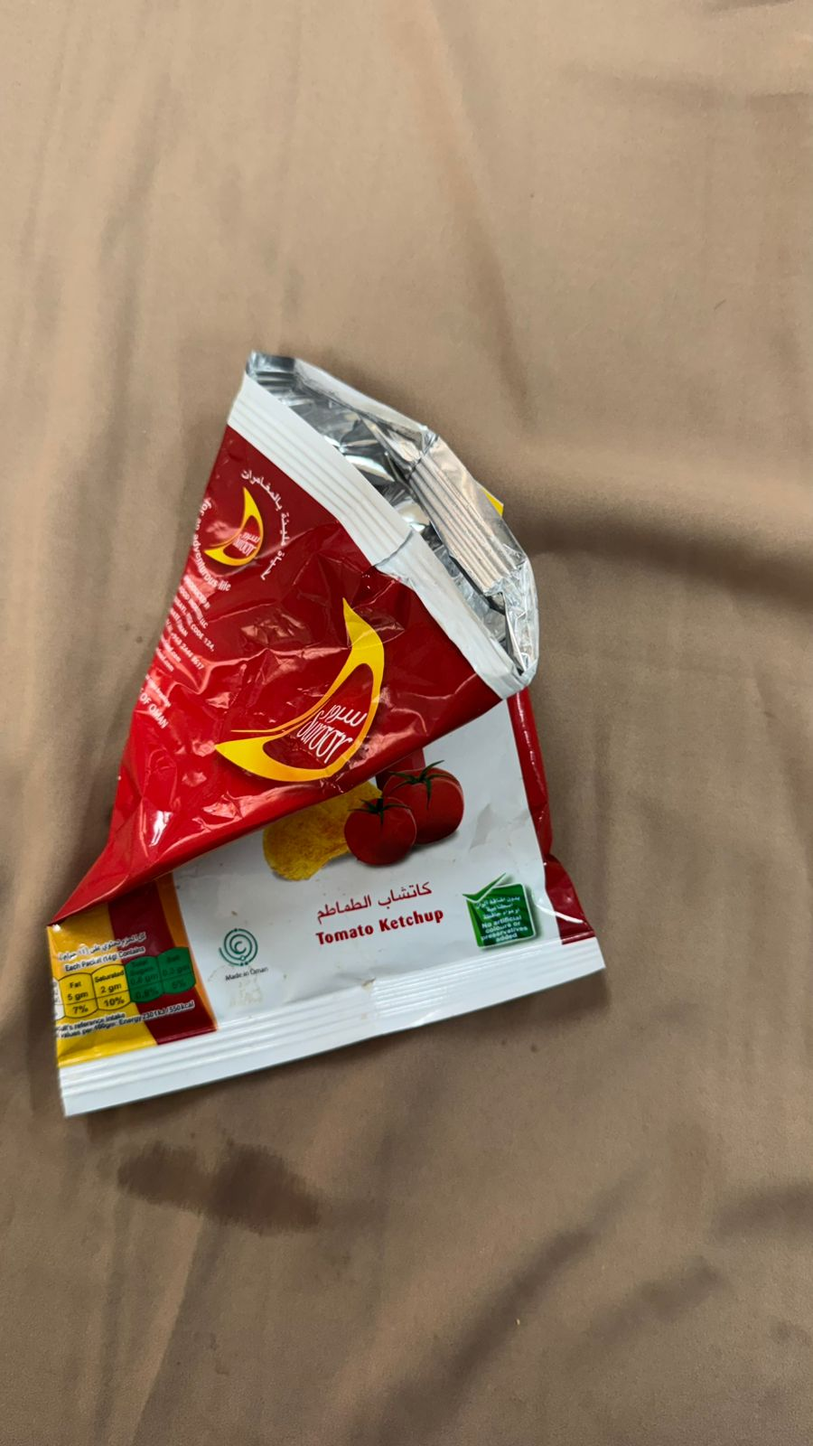plastic: (81, 193, 732, 1350)
